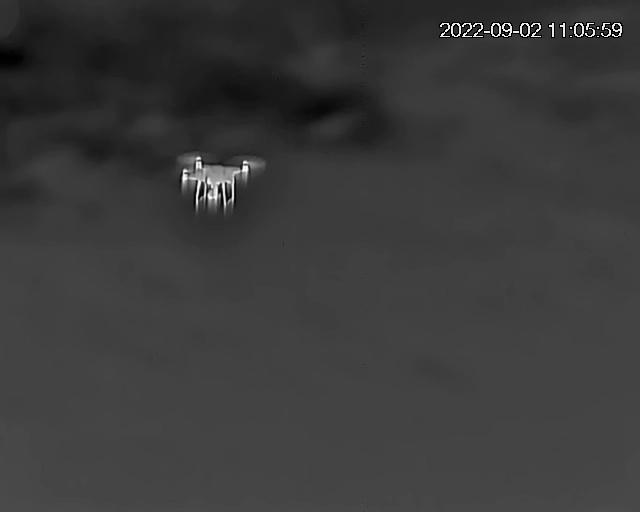DJI-Phantom: (182, 154, 264, 209)
